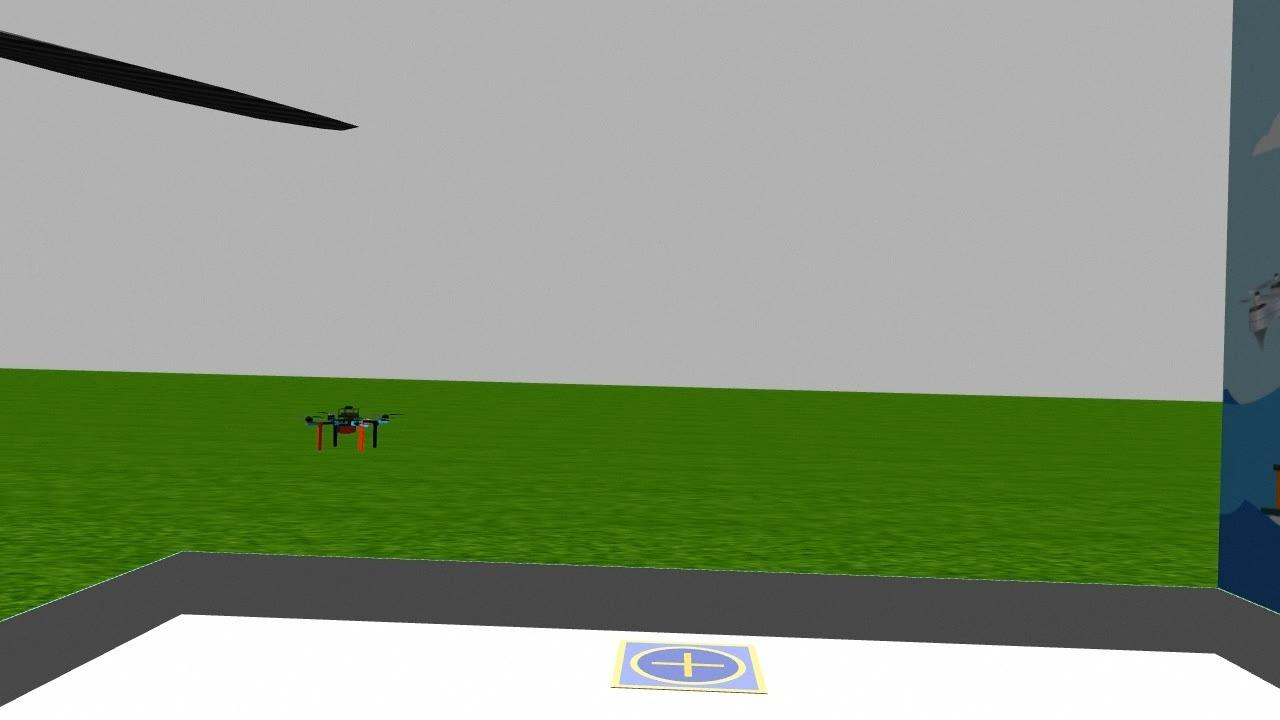UAV: (300, 388, 396, 469)
